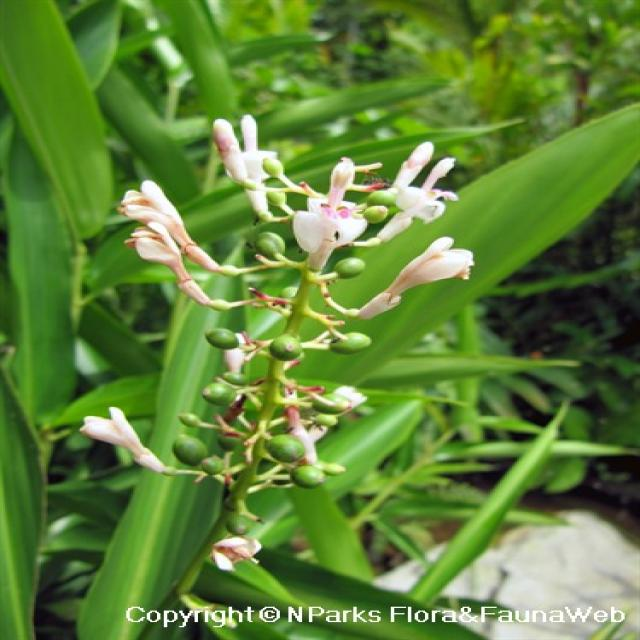Aquatic-Ginger: (79, 113, 476, 489), (208, 514, 262, 572)
